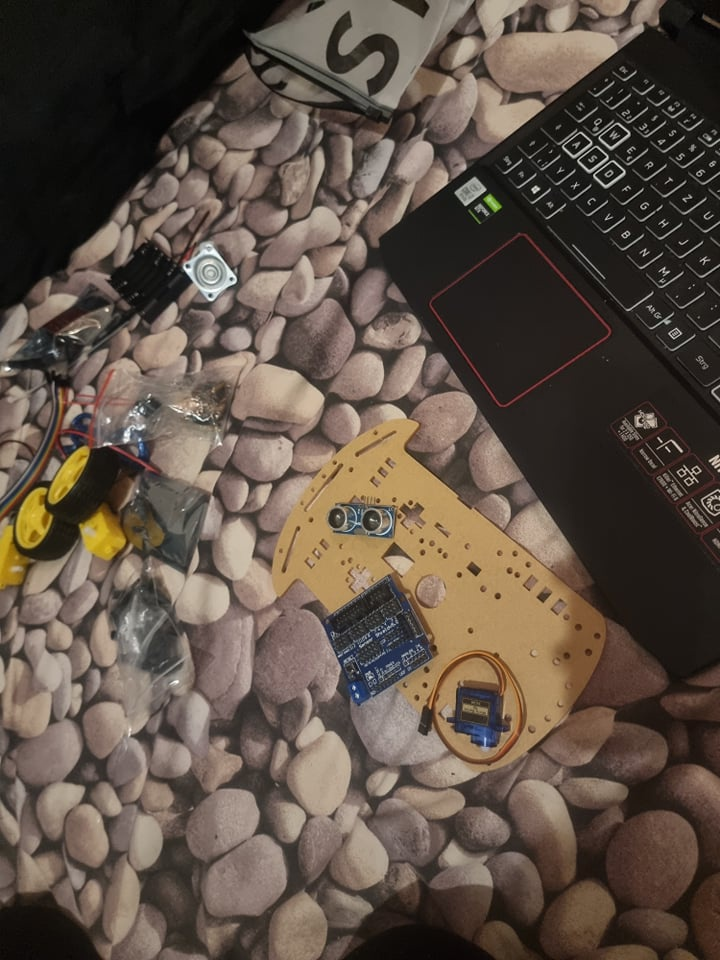5V EXPANSION: (318, 576, 436, 703)
BATTERY BOX: (103, 239, 189, 320)
SENSOR: (322, 499, 401, 538)
